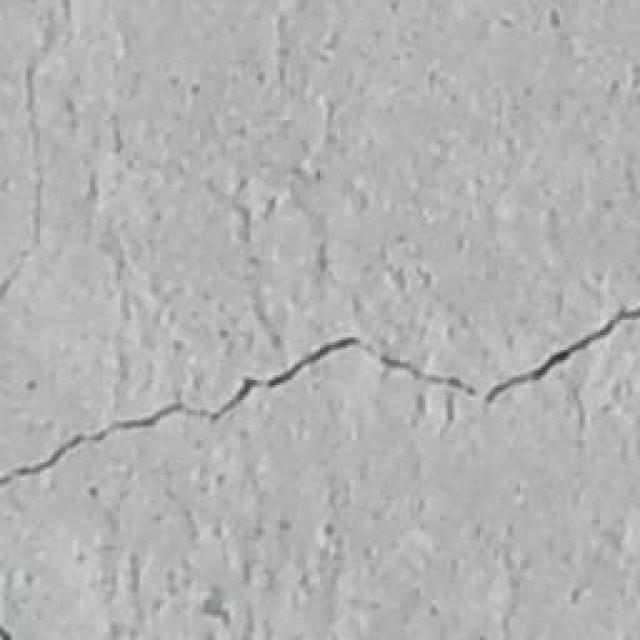concrete-crack: (6, 310, 640, 493)
